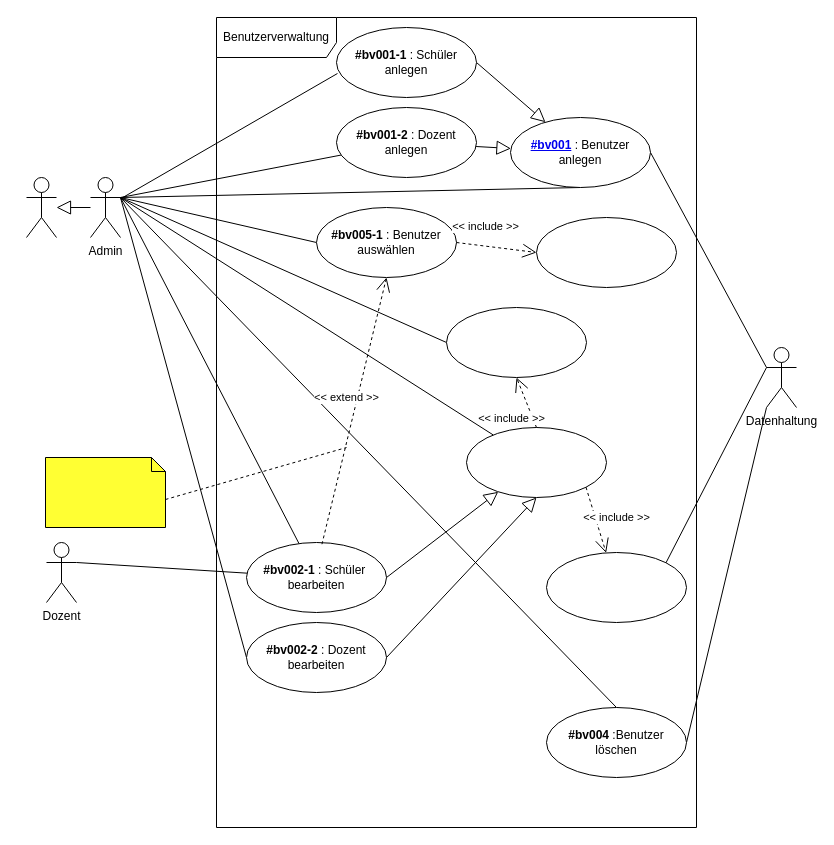
Image size: 834x845. Some labels were removed from this diagram. The centre of each missing label's shape, as x and y in pixels:
#bv002 :Benutzer bearbeiten: the point at 536,462
#bv003 :Benutzer anzeigen: the point at 516,342
#bv005 : Benutzerliste anzeigen: the point at 606,252
#bv005 :Benutzer speichern: the point at 616,587
Benutzer: the point at 41,207
Condition : { Benutzer-Rolle = Schüler }: the point at 105,492
